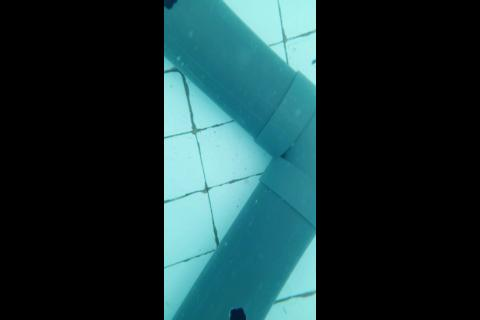kebocoran: (229, 306, 247, 320), (165, 0, 178, 10)
